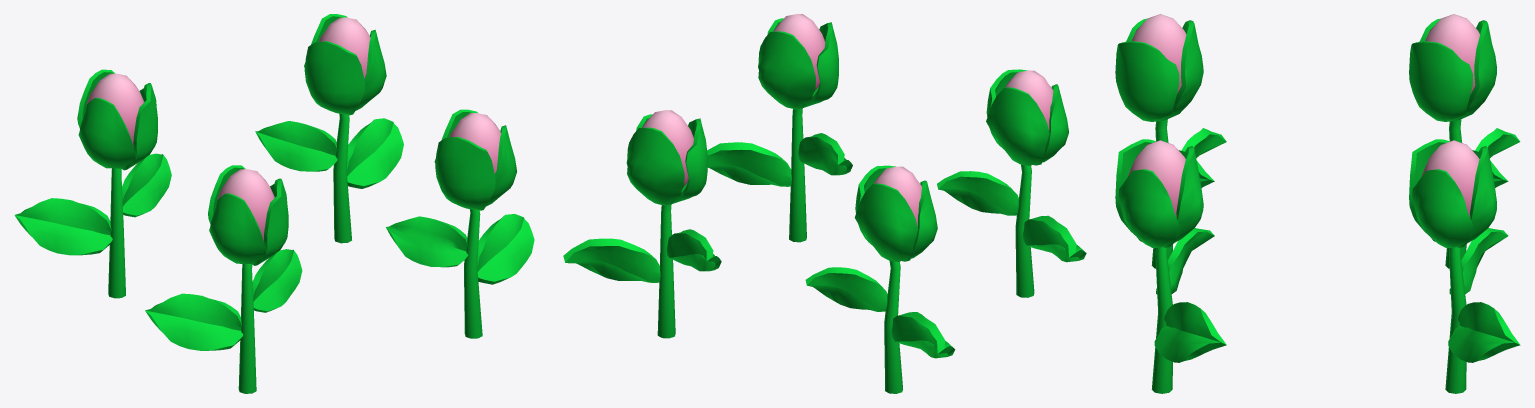
Rendered from Farm_Crop_Tulip_02_Step_02.fbx.
3 views of the same model, side by side, from view 1: azimuth 30°, elevation 25°; view 2: azimuth 150°, elevation 25°; view 3: azimuth 270°, elevation 25° (orthographic). The views are drawn at different scales.
Visible parts, largest first — view 1: Farm_Crop_Tulip_02_Step_02; view 2: Farm_Crop_Tulip_02_Step_02; view 3: Farm_Crop_Tulip_02_Step_02.
Part boxes in pixels (<box>): Farm_Crop_Tulip_02_Step_02: <box>14,14,534,393</box>; Farm_Crop_Tulip_02_Step_02: <box>563,14,1086,393</box>; Farm_Crop_Tulip_02_Step_02: <box>1115,14,1520,393</box>.
Bounding box in the file's own units: 168 × 93.89 × 138.
